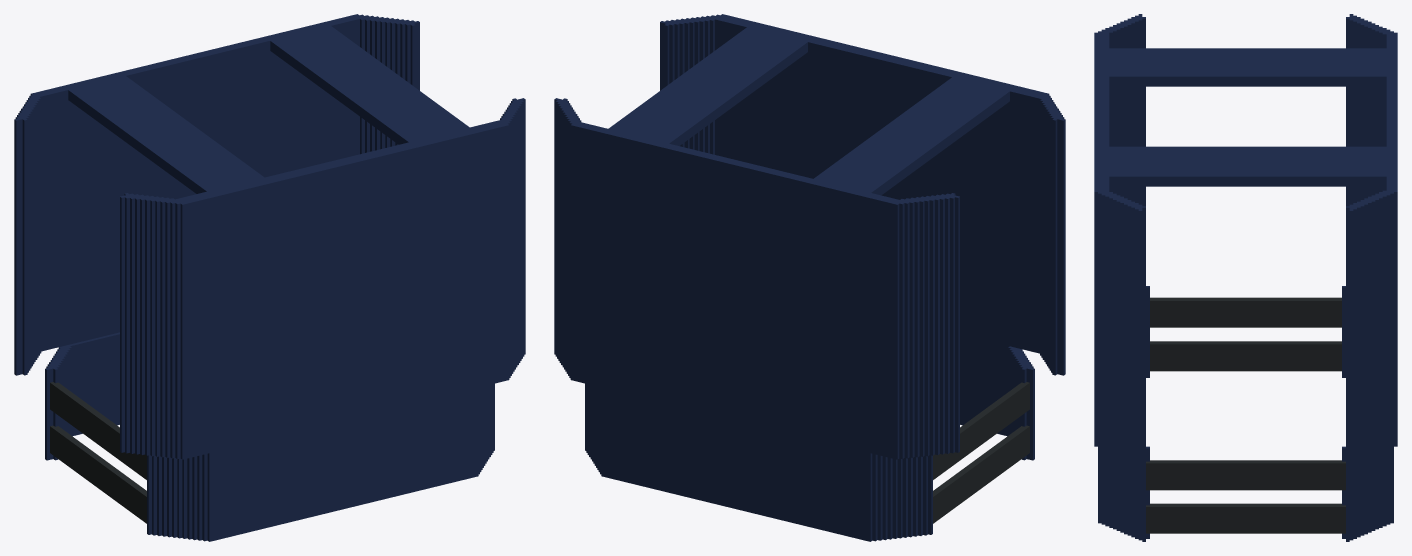
File: stab_vest_worn_jacket.glb
3 renders of one model, left to right at view 1: azimuth 30°, elevation 25°; view 2: azimuth 150°, elevation 25°; view 3: azimuth 270°, elevation 25°, orthographic.
Visible parts, largest first — view 1: shell:compound; view 2: shell:compound; view 3: shell:compound.
Part boxes in pixels (x1,y1,x2,y2): shell:compound: (14, 14, 525, 541); shell:compound: (554, 14, 1065, 541); shell:compound: (1094, 14, 1397, 541).
Size of the model in its own units: 0.504 by 0.412 by 0.328.
